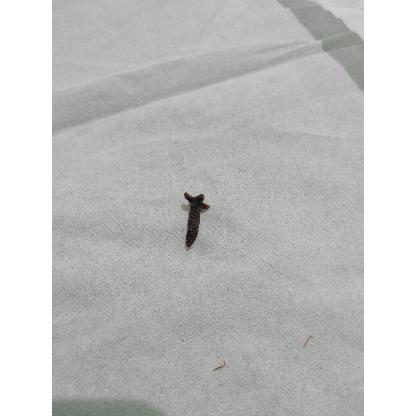buruk: (184, 193, 210, 249)
